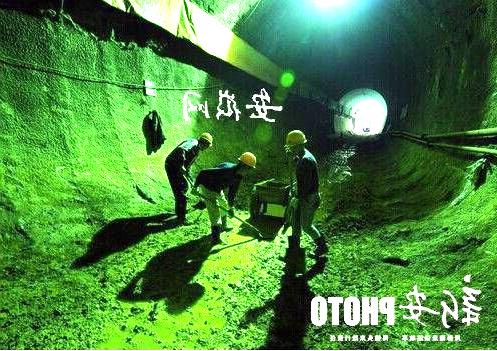helmet: (284, 129, 308, 158), (237, 151, 257, 176), (197, 132, 213, 151)
